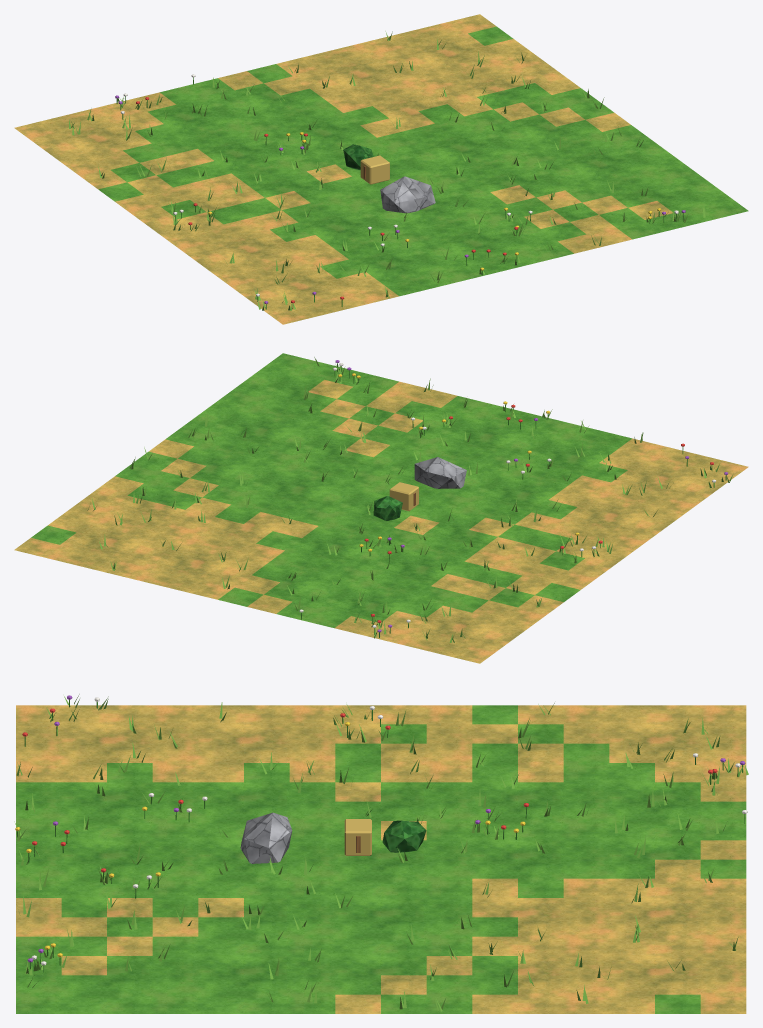
Rendered from chunk_9_13.glb.
3 renders of one model, top to bottom at view 1: azimuth 30°, elevation 25°; view 2: azimuth 150°, elevation 25°; view 3: azimuth 270°, elevation 25°, orthographic. The views are drawn at different scales.
Parts seen in each view (by area): view 1: chunk_9_13; view 2: chunk_9_13; view 3: chunk_9_13.
Boxes of the visible parts, box(x1,y1,x2,y2) form: chunk_9_13: box(14, 14, 748, 324); chunk_9_13: box(14, 353, 748, 663); chunk_9_13: box(14, 694, 748, 1013).
Size of the model in its own units: 16.09 by 1.34 by 16.1.
Materials: 12 (6 with a texture image).
